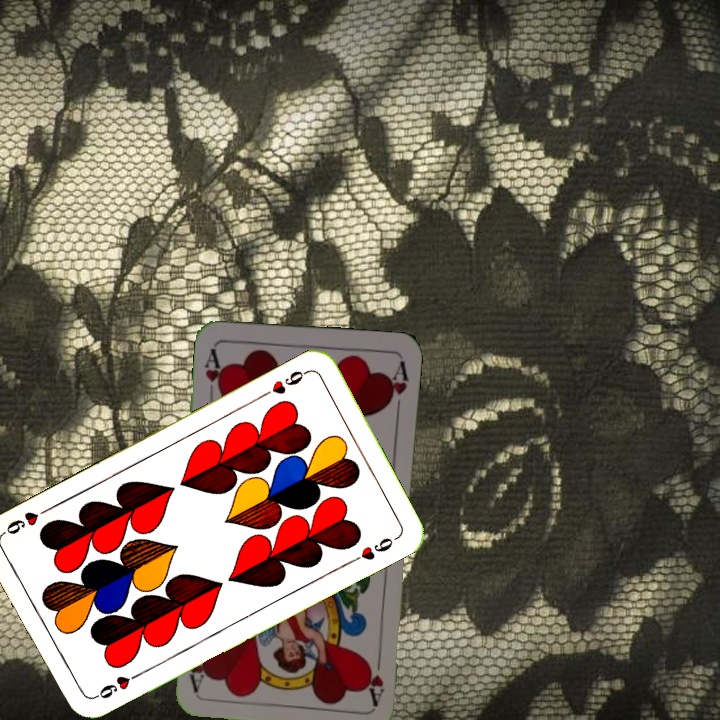H9: (257, 365, 312, 401), (89, 668, 144, 702)
HA: (361, 646, 387, 706), (201, 344, 227, 402)
